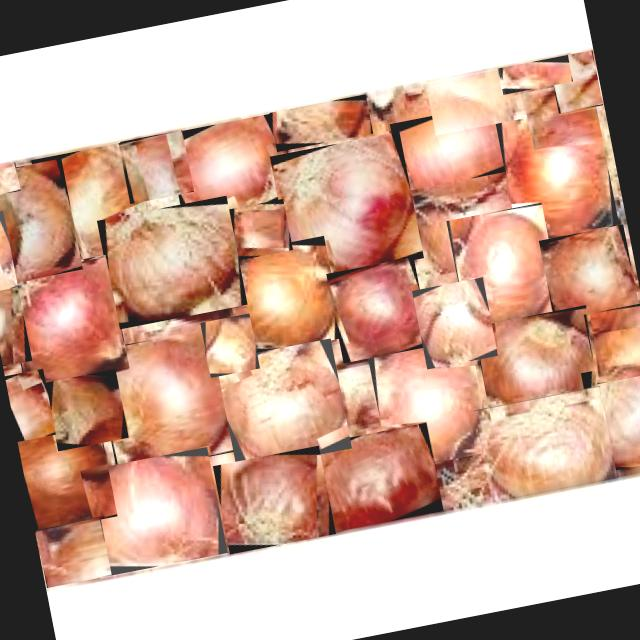healthy: (270, 132, 424, 284), (94, 327, 240, 474), (100, 196, 248, 330), (80, 447, 228, 580), (216, 338, 352, 471), (495, 102, 619, 244), (368, 336, 492, 472), (474, 386, 618, 502), (4, 256, 130, 388), (307, 422, 446, 534), (32, 140, 156, 265), (222, 235, 344, 358), (446, 203, 563, 331), (473, 305, 604, 419), (166, 113, 292, 224), (213, 446, 336, 554), (14, 410, 118, 532), (539, 224, 640, 340), (390, 102, 520, 192), (326, 257, 431, 363), (0, 158, 83, 285), (412, 277, 498, 369), (426, 64, 527, 136), (46, 369, 130, 451), (581, 359, 640, 473), (270, 94, 374, 154), (522, 80, 602, 150), (120, 130, 194, 203), (36, 517, 112, 588), (584, 303, 640, 384), (229, 198, 293, 260), (200, 313, 260, 378), (5, 369, 56, 442), (548, 50, 604, 116), (0, 261, 32, 366), (500, 54, 573, 94), (0, 210, 18, 292), (0, 162, 21, 200)
